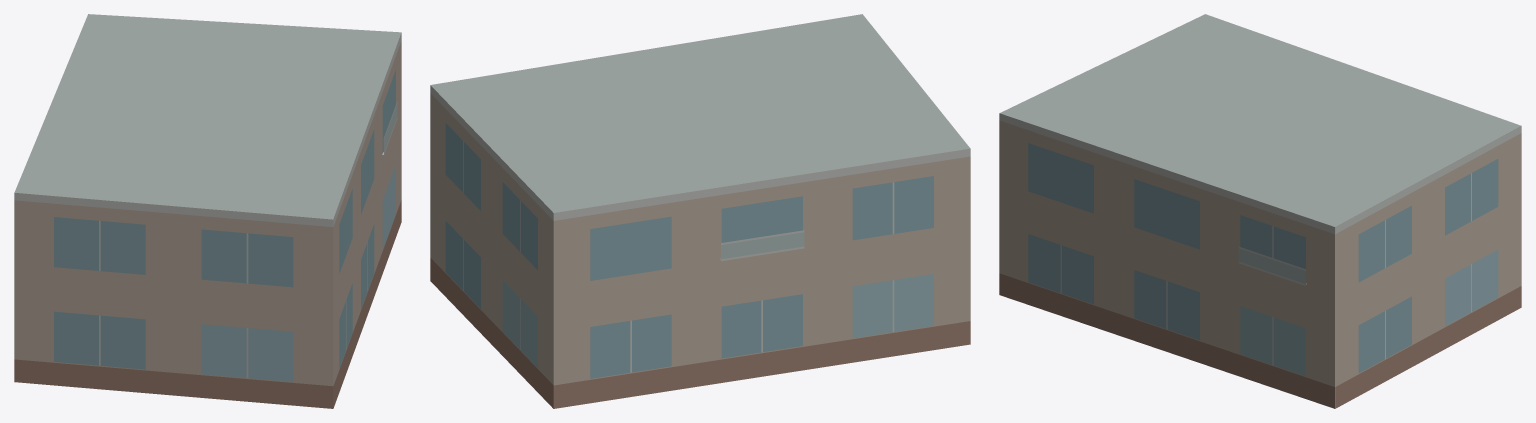
Rendered from survey-upis-32693092.glb.
The picture shows the model from 3 angles, left to right: view 1: azimuth 30°, elevation 25°; view 2: azimuth 150°, elevation 25°; view 3: azimuth 270°, elevation 25°; orthographic projection. The views are drawn at different scales.
Parts seen in each view (by area): view 1: survey-upis-32693092.tmp; view 2: survey-upis-32693092.tmp; view 3: survey-upis-32693092.tmp.
Part boxes in pixels (left/top/right/bottom): survey-upis-32693092.tmp: left=14, top=14, right=401, bottom=408; survey-upis-32693092.tmp: left=430, top=14, right=970, bottom=408; survey-upis-32693092.tmp: left=999, top=14, right=1521, bottom=408.
Size of the model in its own units: 15.35 by 6.1 by 15.89.
